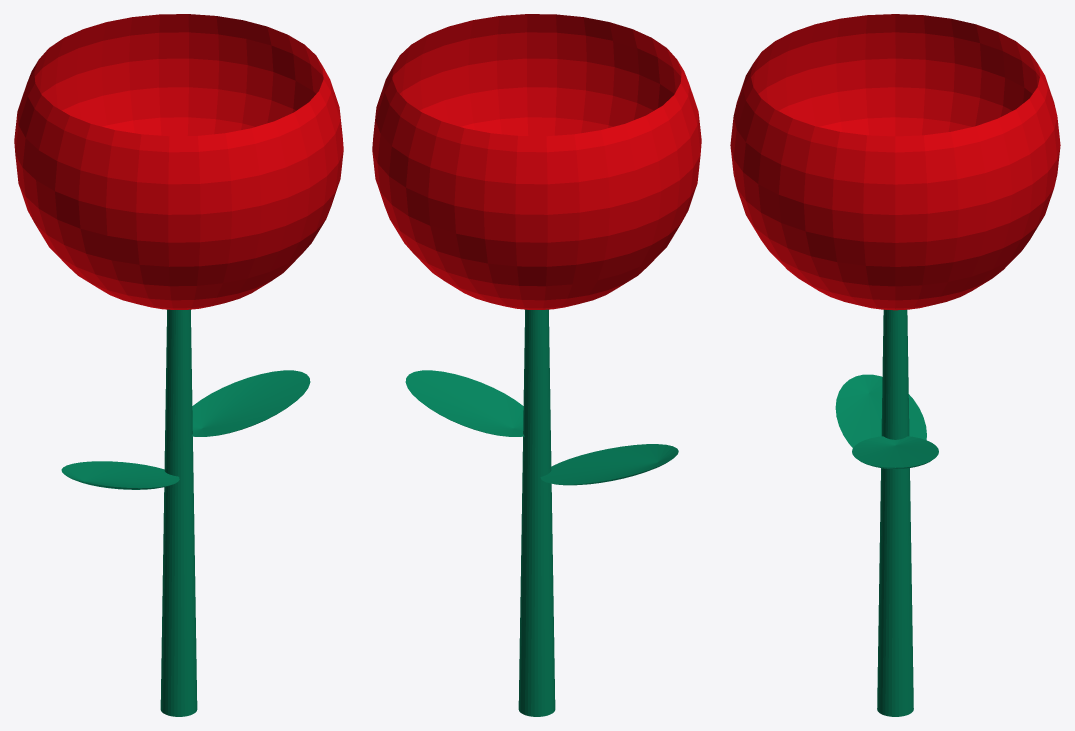
The model's file is flower_2.glb.
3 renders of one model, left to right at view 1: azimuth 30°, elevation 25°; view 2: azimuth 150°, elevation 25°; view 3: azimuth 270°, elevation 25°, orthographic.
Visible parts, largest first — view 1: Sphere.002, Cylinder, Sphere.001, Sphere; view 2: Sphere.002, Cylinder, Sphere.001, Sphere; view 3: Sphere.002, Cylinder, Sphere, Sphere.001.
Part boxes in pixels (x1=…): Sphere.002: x1=14, y1=14, x2=343, y2=309; Cylinder: x1=160, y1=309, x2=197, y2=716; Sphere.001: x1=191, y1=370, x2=310, y2=436; Sphere: x1=61, y1=461, x2=179, y2=489; Sphere.002: x1=372, y1=14, x2=701, y2=309; Cylinder: x1=518, y1=309, x2=555, y2=716; Sphere.001: x1=405, y1=370, x2=524, y2=436; Sphere: x1=540, y1=444, x2=678, y2=485; Sphere.002: x1=730, y1=14, x2=1060, y2=310; Cylinder: x1=877, y1=309, x2=913, y2=716; Sphere: x1=835, y1=374, x2=926, y2=447; Sphere.001: x1=852, y1=436, x2=938, y2=469.
Size of the model in its own units: 0.6399 by 1.36 by 0.6399.
